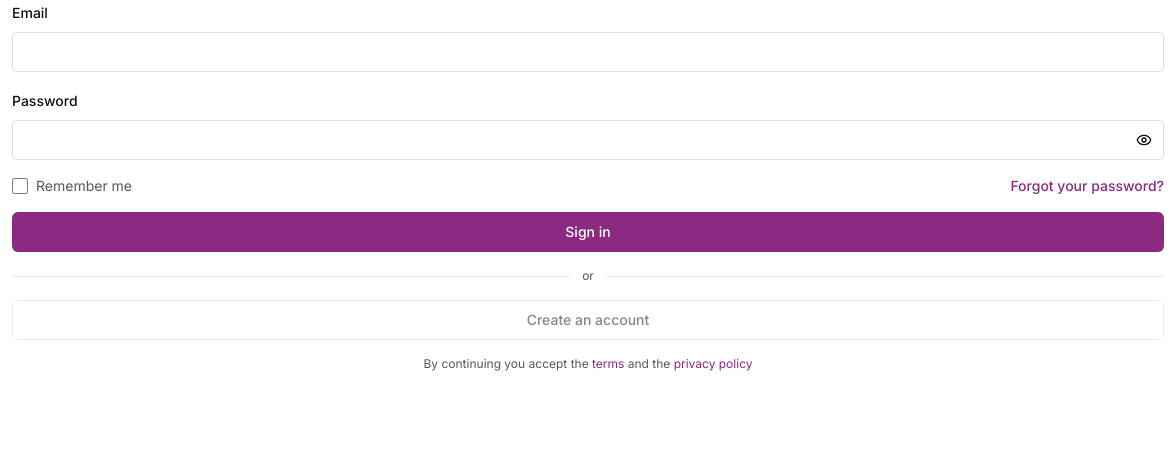
Test: login form — API failures › shows invalid credentials under the form, not in a field
This screenshot has width=1176, height=458.
Type "user@example.com" into the field labelled "Email". click: (588, 52)
box: [12,32,1164,72]
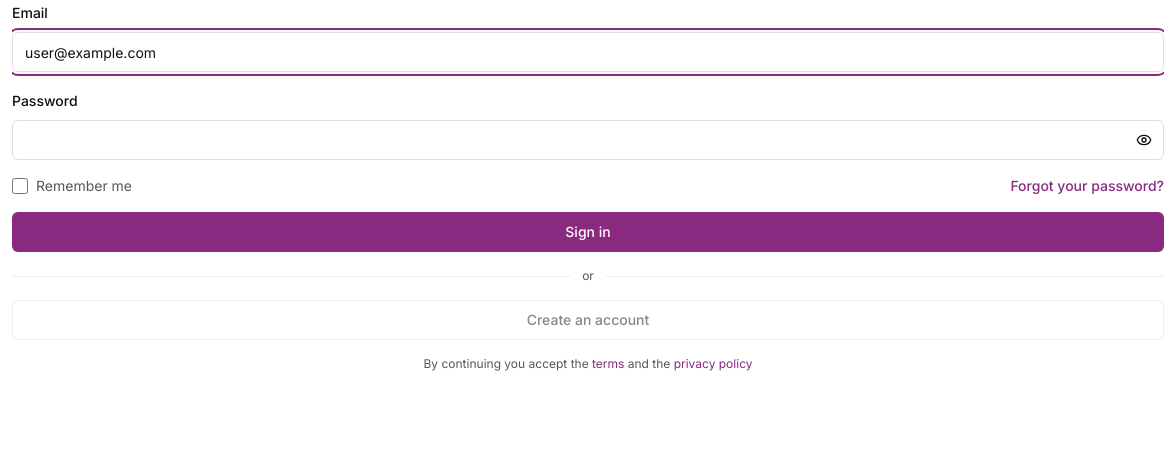
Type "secret" into the password field labelled "Password". click: (588, 140)
box: [12,120,1164,160]
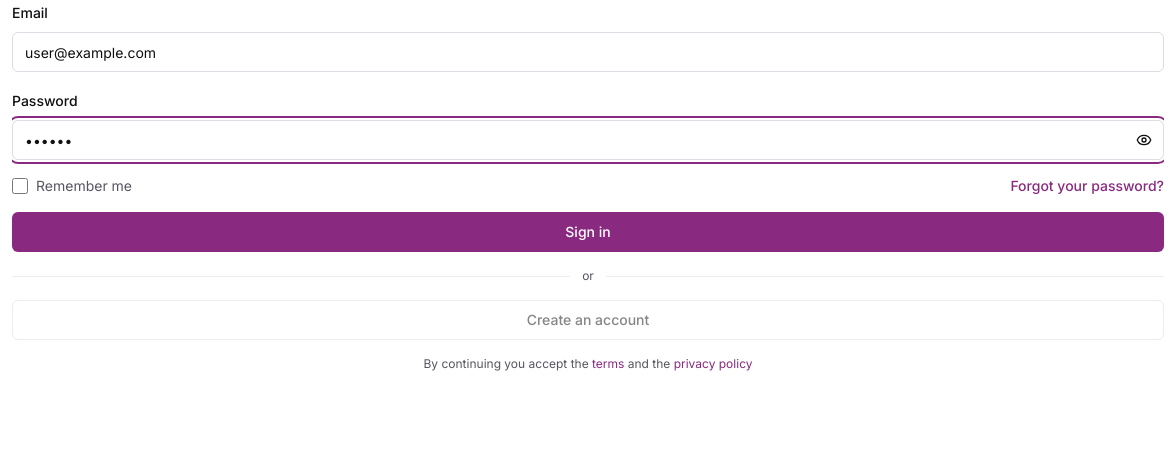
Click the button "Sign in". click: (588, 232)
box: [12,212,1164,252]
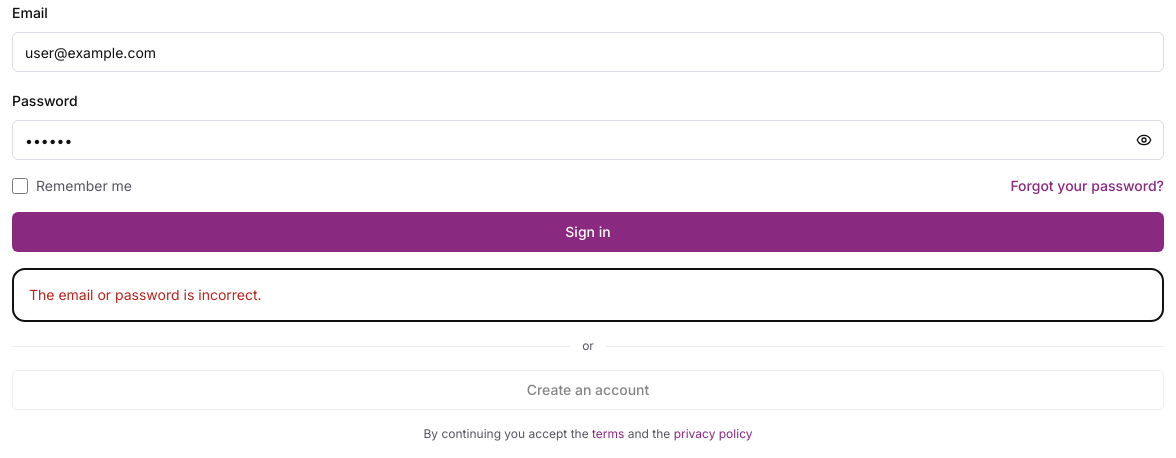
Expected: the message reads "The email or password is incorrect.", [29,286,262,303]
